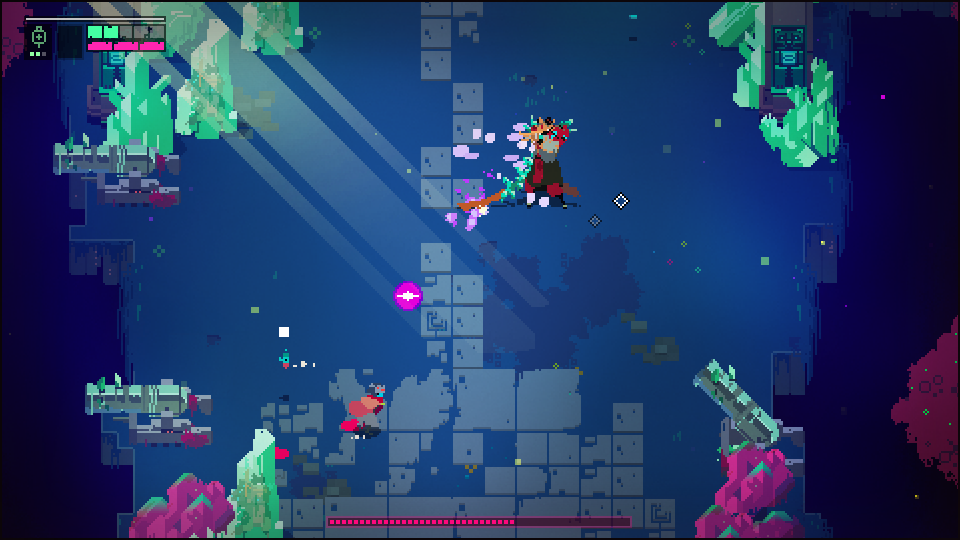hanged_man: (491, 115, 579, 210)
hanged_shot: (392, 280, 421, 311)
player: (346, 383, 386, 431)
